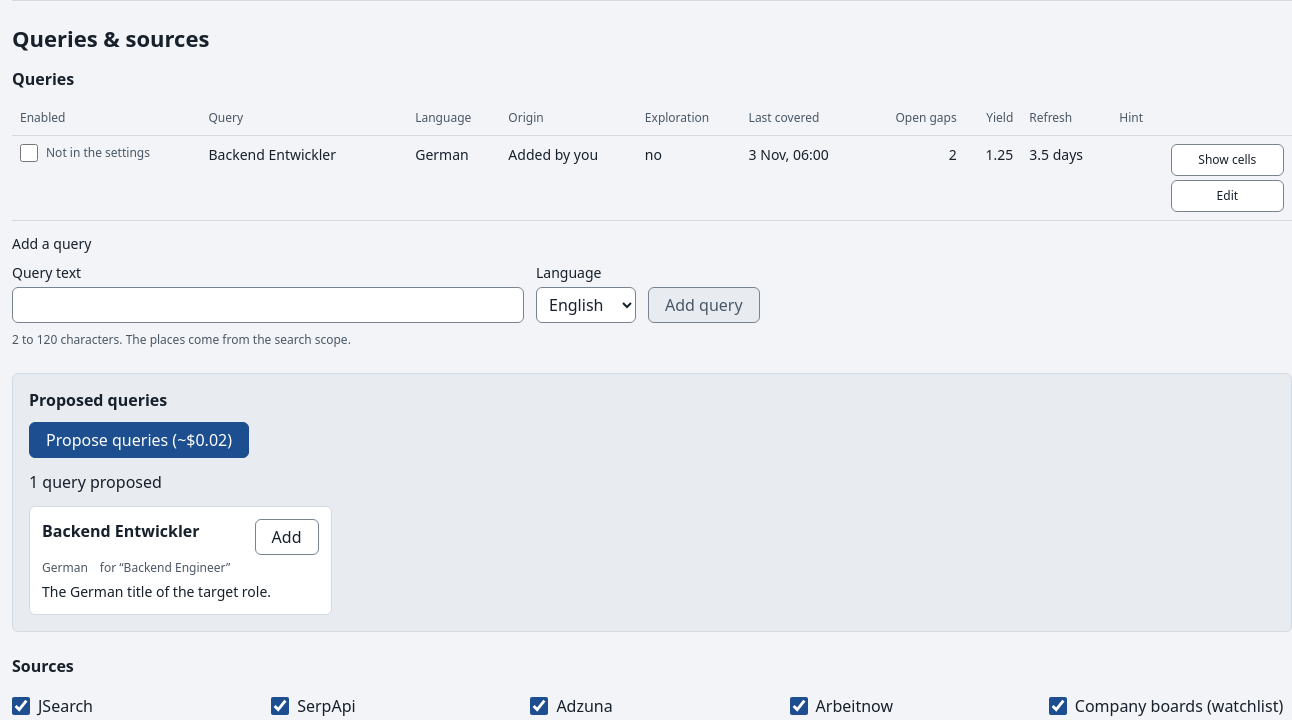
Test: ProposalPanel › an item whose query exists is enabled in the draft
Step 1. Click the button with aria-label "Add “Backend Entwickler”" → (287, 536), box [255,518,318,554]
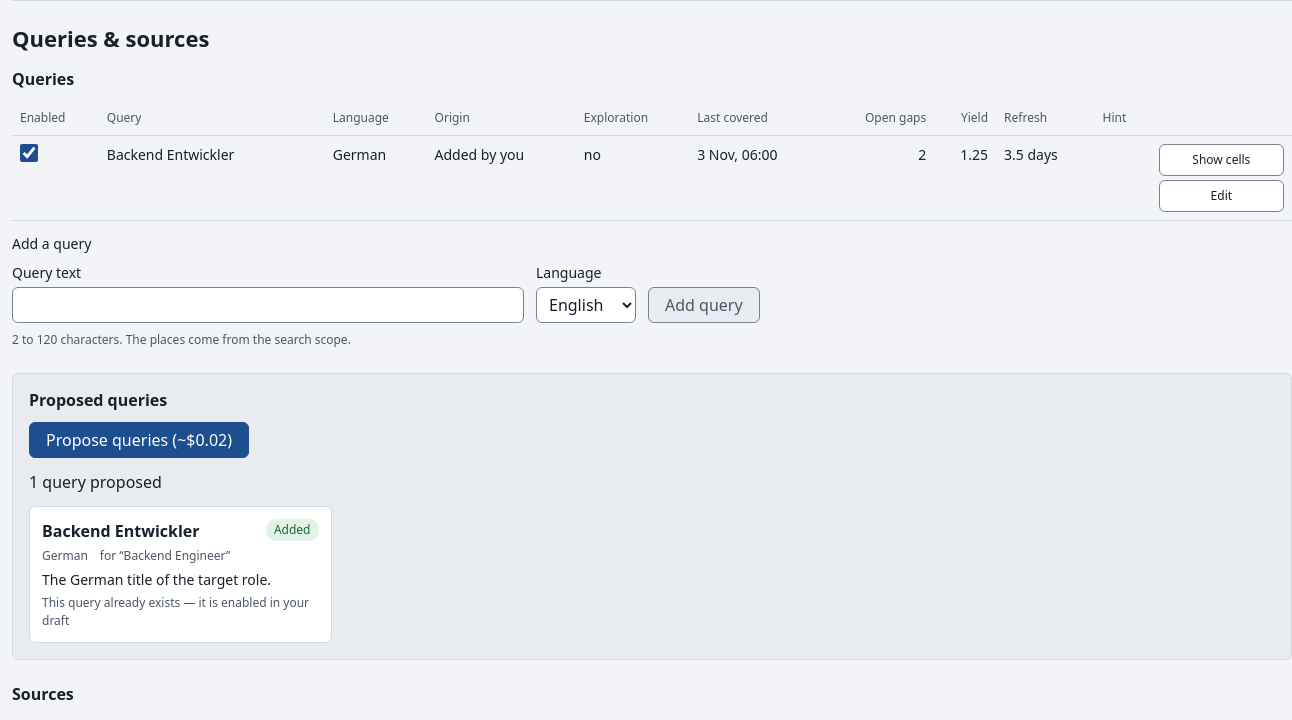
Now the text "This query already exists — it is enabled in your draft" is shown, box [42,594,318,630]
Now the text "Added" is shown, box [266,518,318,540]
